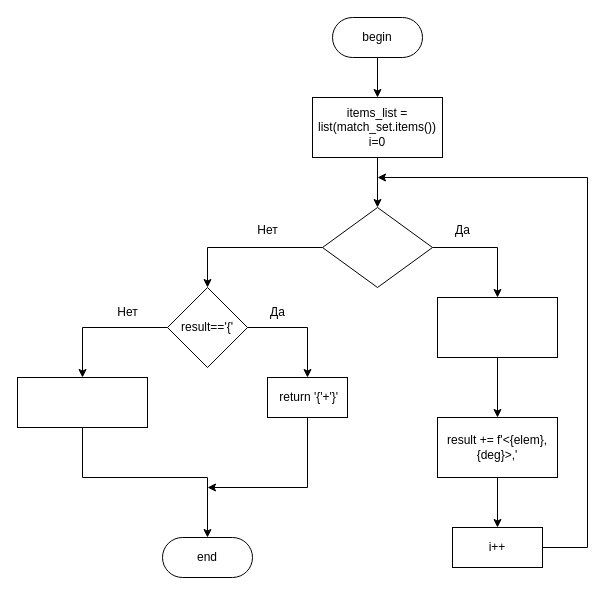
The diagram is 613 pixels wide and 595 high, and some of its shapes have lost their labels. The shapes that lost their labels are listed below. From the top down, each one's centre as x and y in pixels, then its label:
(377,247): i<len(items_list)
(497,327): elem, deg = items_list[i]
(82,402): return result[:-1] + '}'
